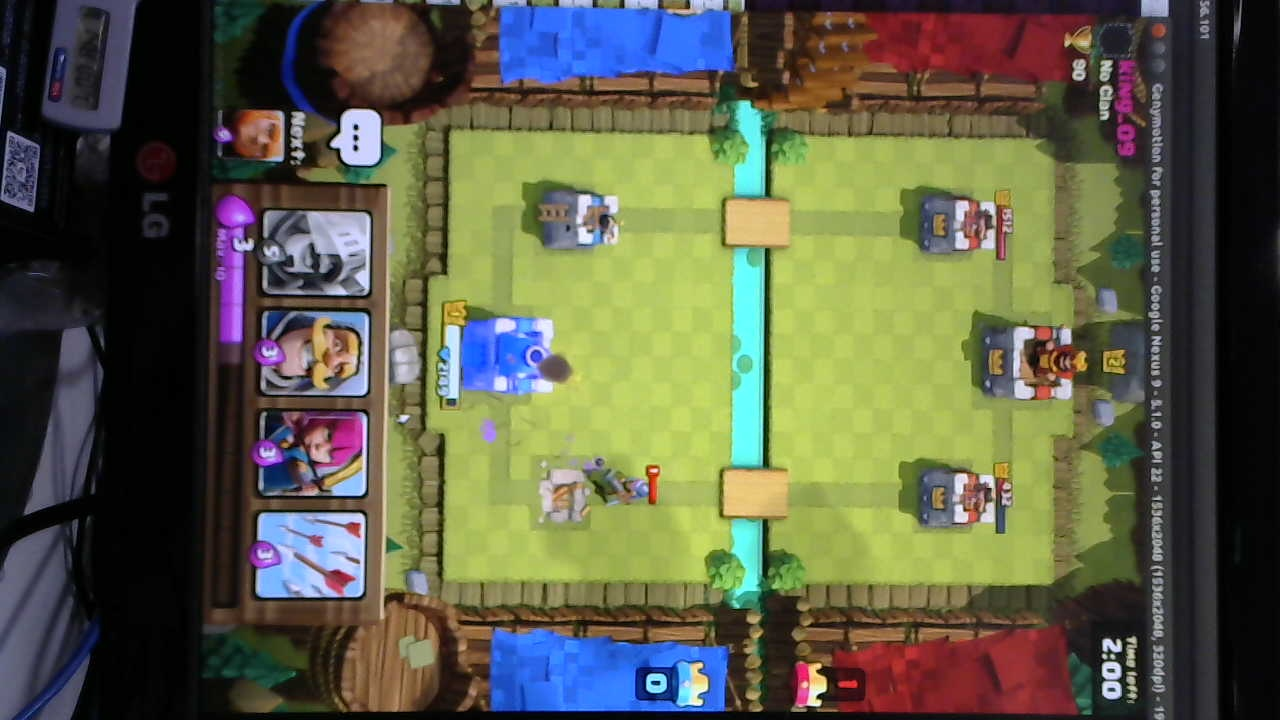arena: (540, 192, 624, 252)
darena: (540, 460, 592, 526)
earena: (914, 198, 998, 260), (923, 469, 997, 533)
eking: (978, 321, 1089, 406)
king: (465, 317, 561, 399)
